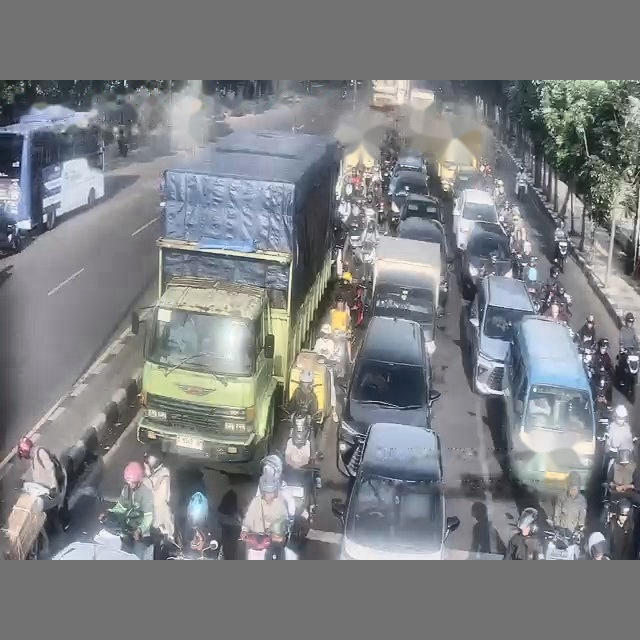Bis: (0, 113, 104, 231)
Mobil: (331, 423, 459, 559), (337, 316, 440, 476), (464, 275, 535, 395), (396, 218, 452, 307), (459, 223, 512, 299), (453, 189, 498, 249), (388, 171, 429, 218), (51, 542, 138, 560), (400, 194, 442, 222), (0, 213, 22, 252), (452, 165, 482, 193), (394, 150, 426, 173)
Motor: (94, 507, 142, 552), (542, 521, 583, 559), (616, 349, 639, 402), (554, 229, 567, 272), (113, 125, 128, 157), (515, 172, 528, 200)
Truk: (132, 131, 340, 475)
